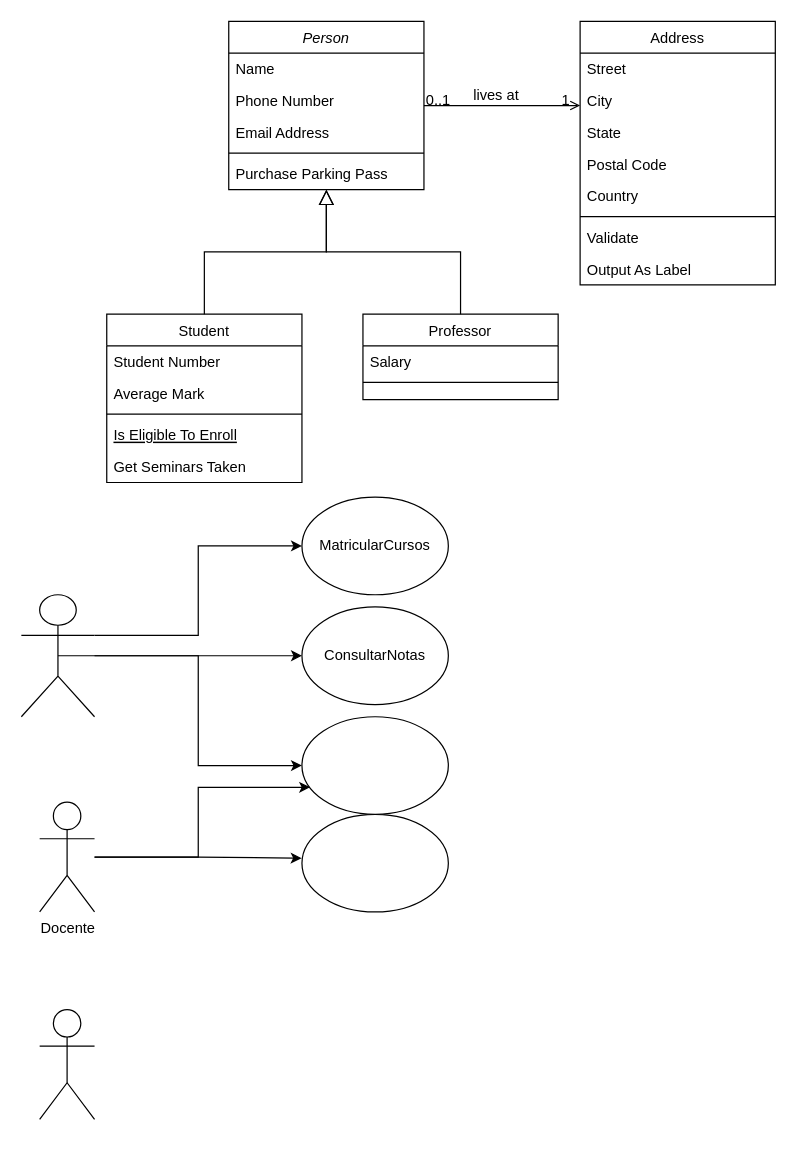
Image size: 797x1166. Some labels were removed from this diagram. The shapes that lost their labels are listed below. From the top down, each one's centre as x and y in pixels, then its label:
At (x=57, y=655): "Estudiante".
At (x=374, y=765): "ConsultarHorario".
At (x=374, y=862): "AsignarNotas".
At (x=66, y=1063): "Actor".
